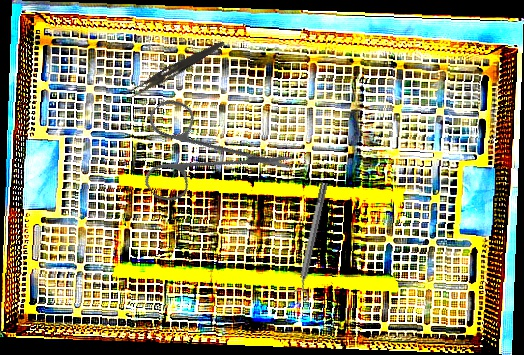Dressing Forceps: (124, 35, 226, 104)
Fixation Ring: (289, 180, 335, 303)
Iris Scissors: (111, 60, 298, 247)
